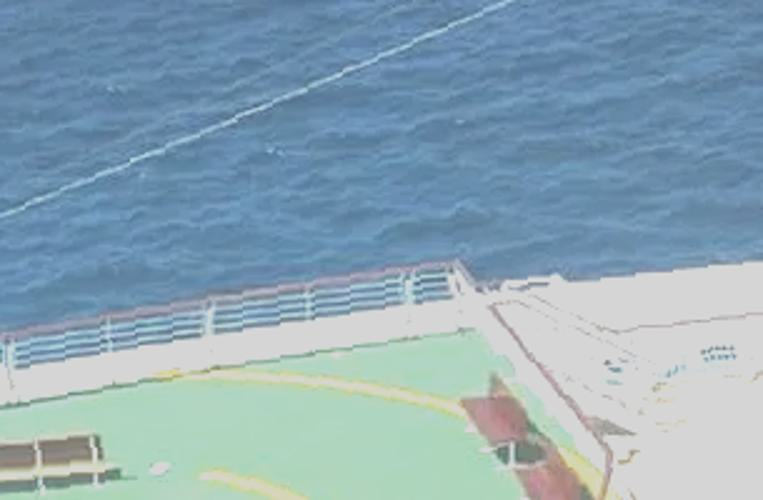Apron: (116, 439, 332, 500)
